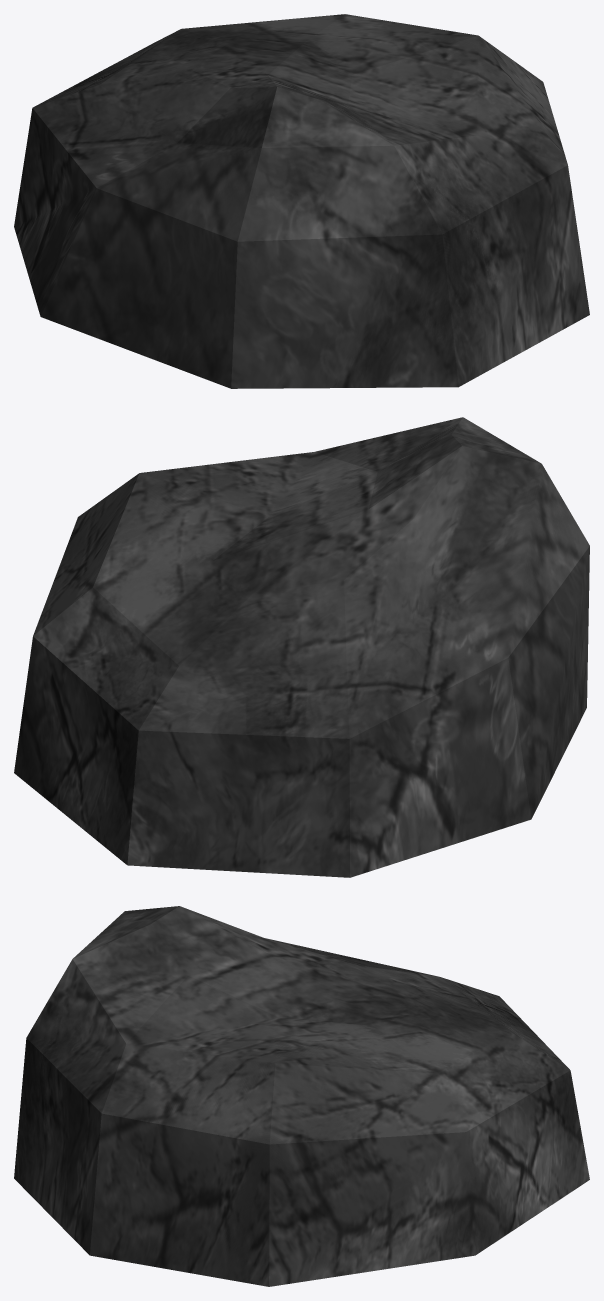
Rendered from rock1.fbx.
The picture shows the model from 3 angles, top to bottom: view 1: azimuth 30°, elevation 25°; view 2: azimuth 150°, elevation 25°; view 3: azimuth 270°, elevation 25°; orthographic projection. The views are drawn at different scales.
Parts seen in each view (by area): view 1: pSphere1; view 2: pSphere1; view 3: pSphere1.
Part boxes in pixels (bbox=[...]): pSphere1: bbox=[14, 14, 589, 388]; pSphere1: bbox=[14, 417, 589, 877]; pSphere1: bbox=[14, 906, 589, 1286].
Bounding box in the file's own units: 19.7 × 9.93 × 22.28.
